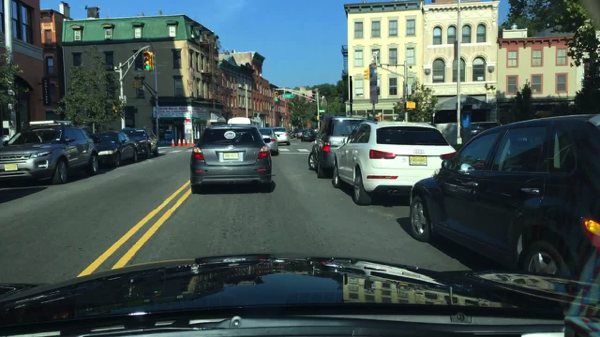bus: (227, 117, 262, 126)
car: (409, 113, 599, 283), (332, 119, 457, 205), (0, 120, 99, 184), (189, 123, 273, 193), (308, 112, 379, 179), (89, 130, 139, 168), (120, 126, 159, 158), (458, 121, 504, 146), (257, 127, 280, 156), (271, 127, 291, 146), (300, 130, 315, 142), (287, 131, 294, 139), (292, 131, 298, 138)
traffic light: (143, 51, 152, 71), (151, 52, 156, 71), (404, 102, 416, 109), (363, 68, 369, 80), (132, 79, 137, 89), (138, 80, 143, 89), (274, 91, 278, 102), (316, 115, 323, 121)
traffic sign: (118, 96, 127, 106), (283, 93, 294, 99)
